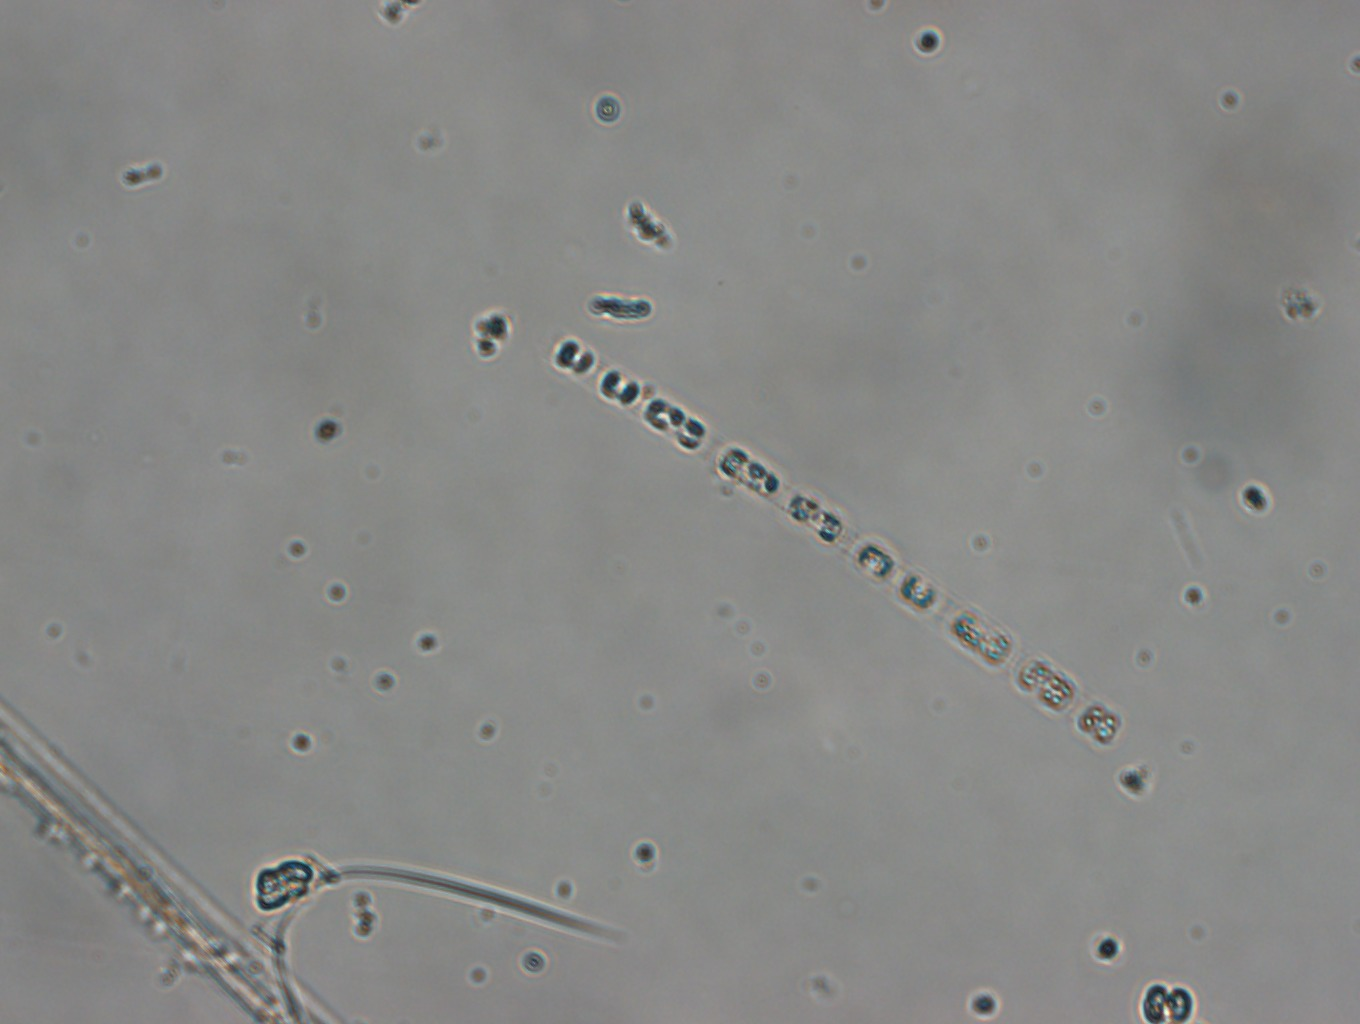skeletonema: (544, 343, 1147, 778)
